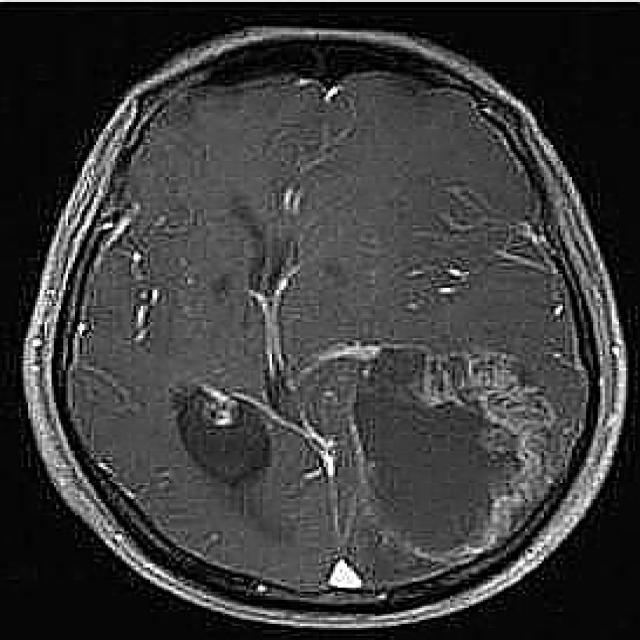Tumor-Cell: (352, 370, 544, 531)
